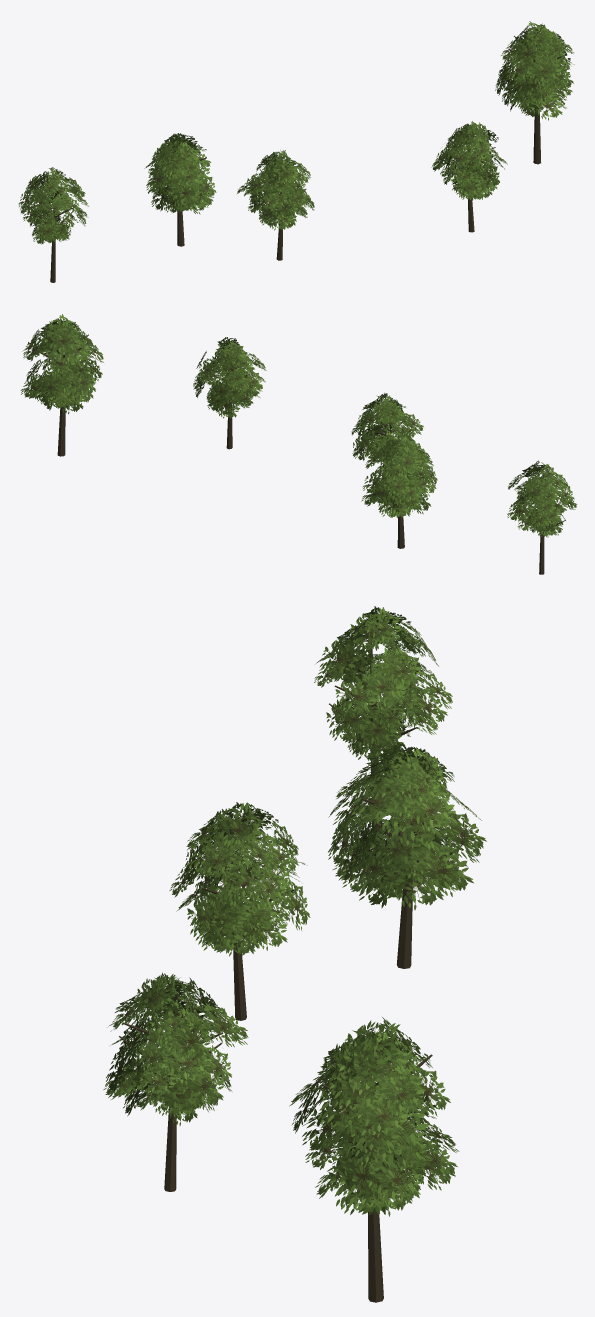
Rendered from TRB8-FOREST-CHUNK-0-2.glb.
3 renders of one model, top to bottom at view 1: azimuth 30°, elevation 25°; view 2: azimuth 150°, elevation 25°; view 3: azimuth 270°, elevation 25°, orthographic. The views are drawn at different scales.
Parts seen in each view (by area): view 1: TRB8-FOREST-CHUNK-0-2; view 2: TRB8-FOREST-CHUNK-0-2; view 3: TRB8-FOREST-CHUNK-0-2.
Boxes of the visible parts, x1,y1,x2,y2 form: TRB8-FOREST-CHUNK-0-2: (18,21,574,282); TRB8-FOREST-CHUNK-0-2: (20,314,577,574); TRB8-FOREST-CHUNK-0-2: (103,606,486,1302).
Bounding box in the file's own units: 21.27 × 5.2 × 6.69.
Materials: 2 (1 with a texture image).
